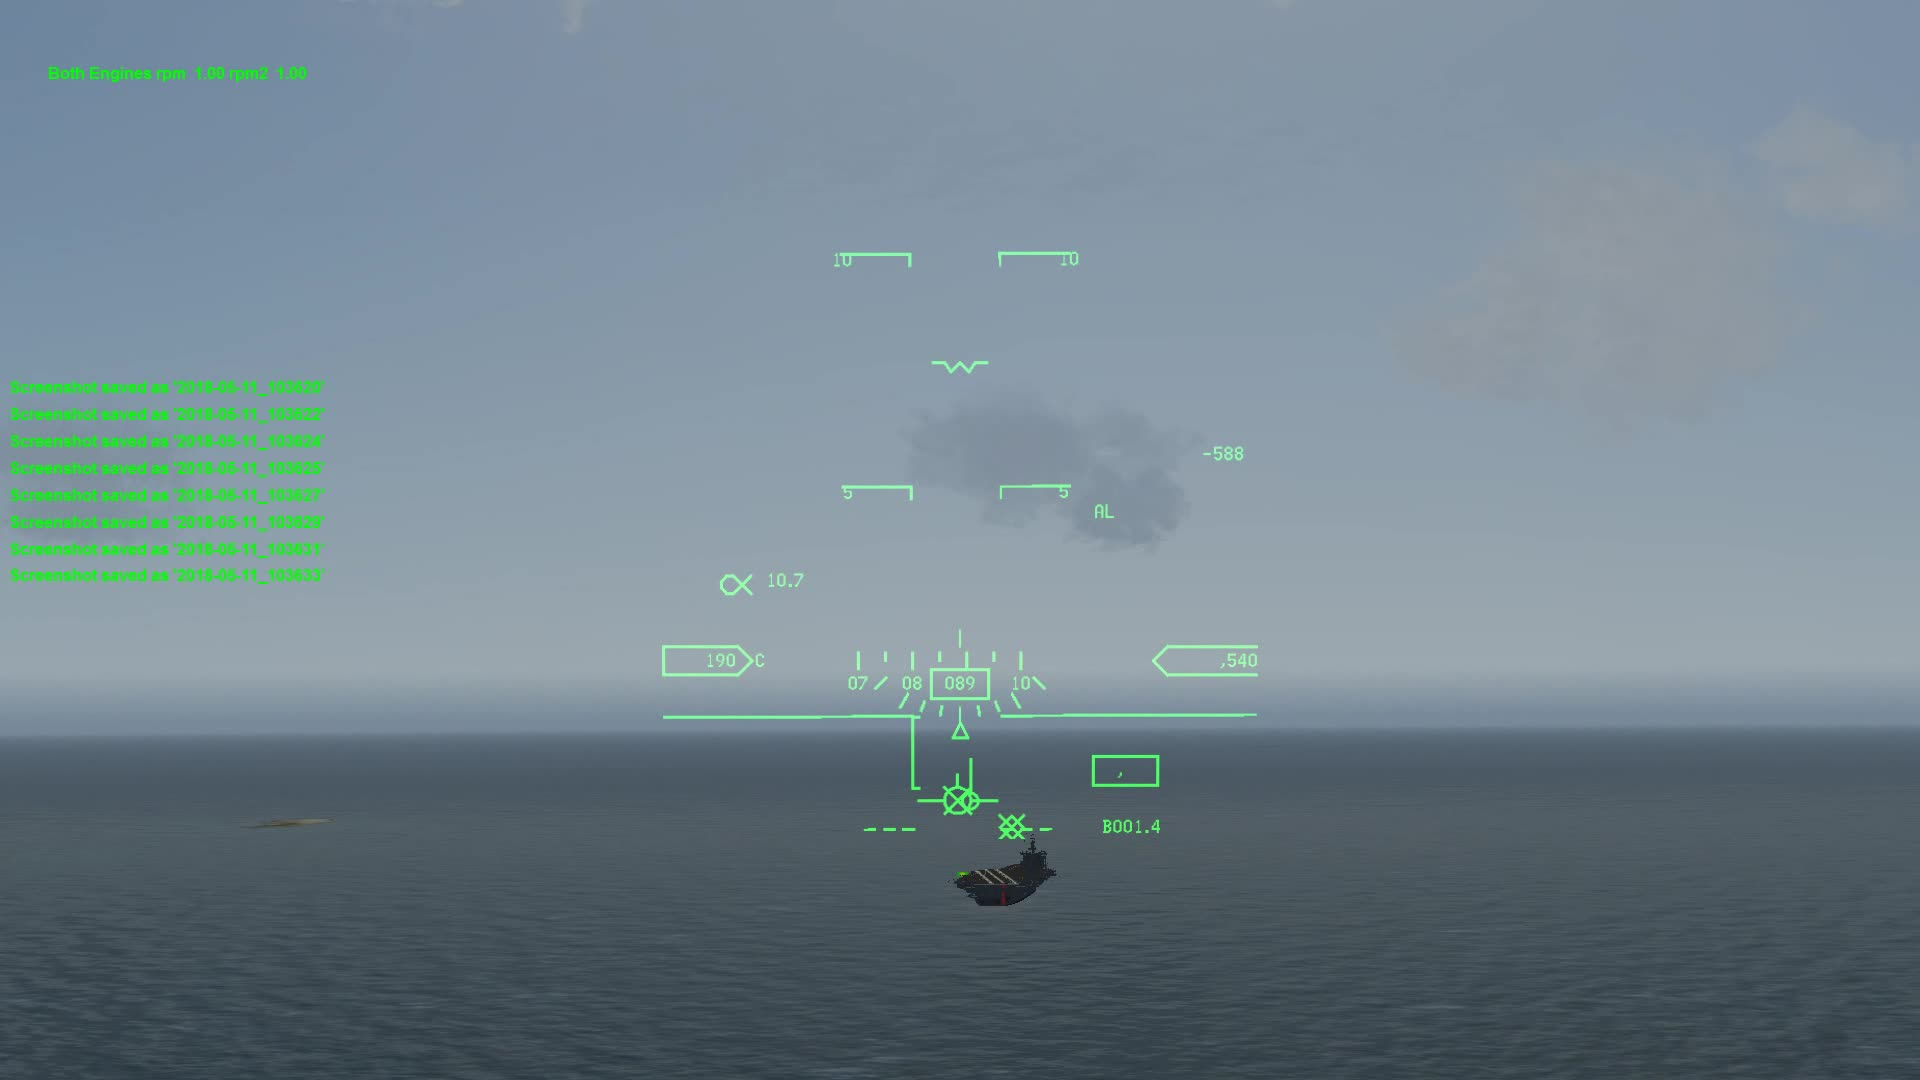speed vector: (918, 774, 1007, 819)
